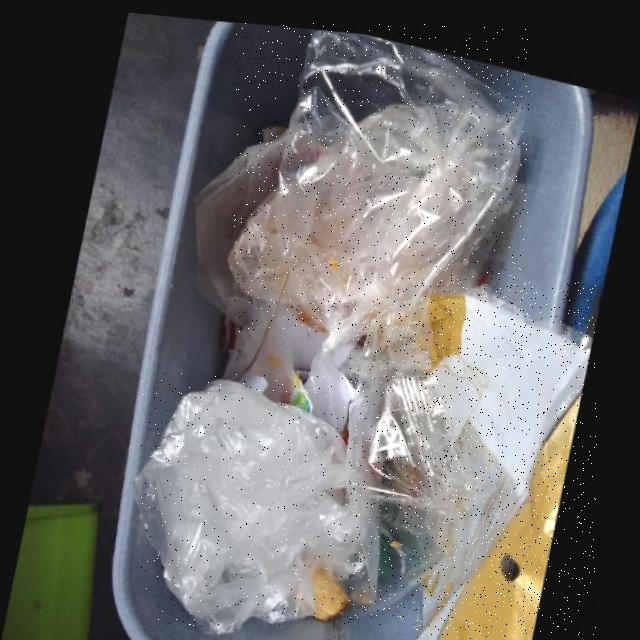plastic: (234, 24, 529, 334), (415, 282, 597, 639), (141, 373, 385, 627), (349, 276, 520, 621)
